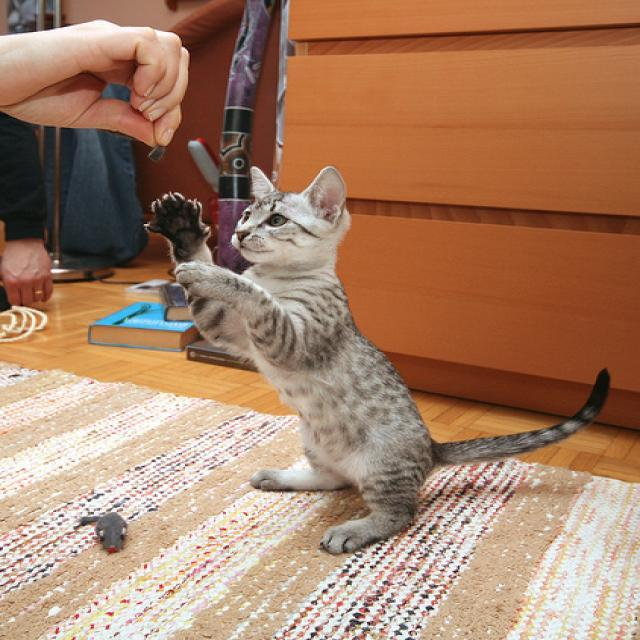Egyptian_Mau: (228, 157, 356, 270)
